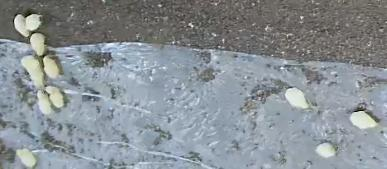chick: (21, 55, 46, 88), (348, 110, 377, 129), (27, 31, 49, 56), (285, 86, 309, 108), (12, 14, 30, 39), (44, 85, 64, 106), (44, 55, 61, 78), (37, 90, 53, 114), (315, 141, 339, 157), (16, 149, 37, 167), (25, 13, 43, 31)
